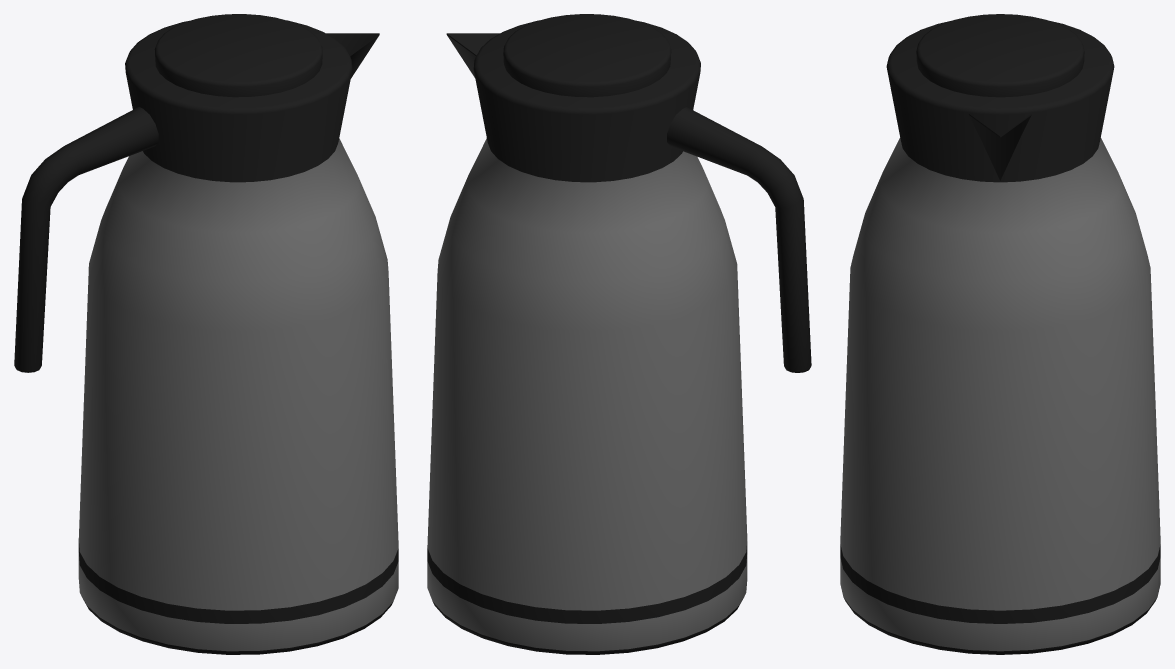
Rendered from electric kettle.FBX.
The picture shows the model from 3 angles, left to right: view 1: azimuth 30°, elevation 25°; view 2: azimuth 150°, elevation 25°; view 3: azimuth 270°, elevation 25°; orthographic projection.
Visible parts, largest first — view 1: electric kettle; view 2: electric kettle; view 3: electric kettle.
Part boxes in pixels (x1,y1,x2,y2): electric kettle: (14, 14, 398, 654); electric kettle: (427, 14, 811, 654); electric kettle: (840, 14, 1160, 654).
Bounding box in the file's own units: 9.32 × 7.12 × 13.29.
Materials: 1 (1 with a texture image).
